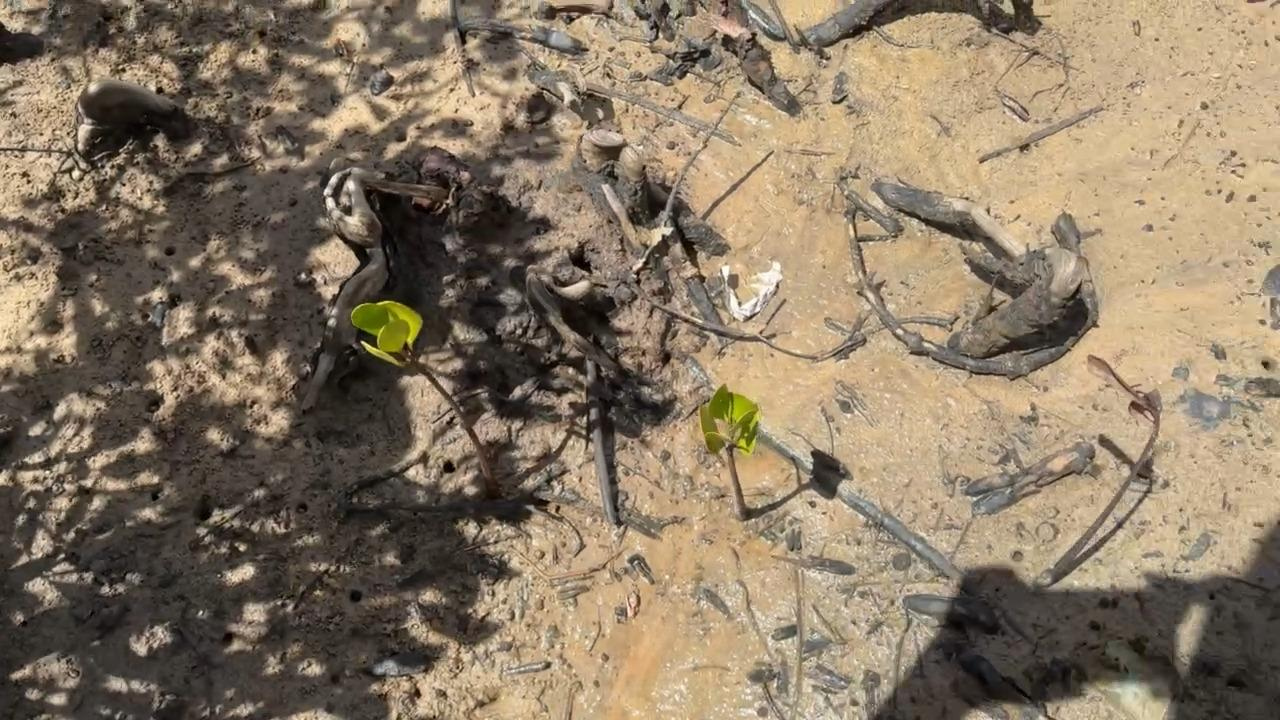Tree: (351, 300, 500, 498), (700, 382, 761, 522)
